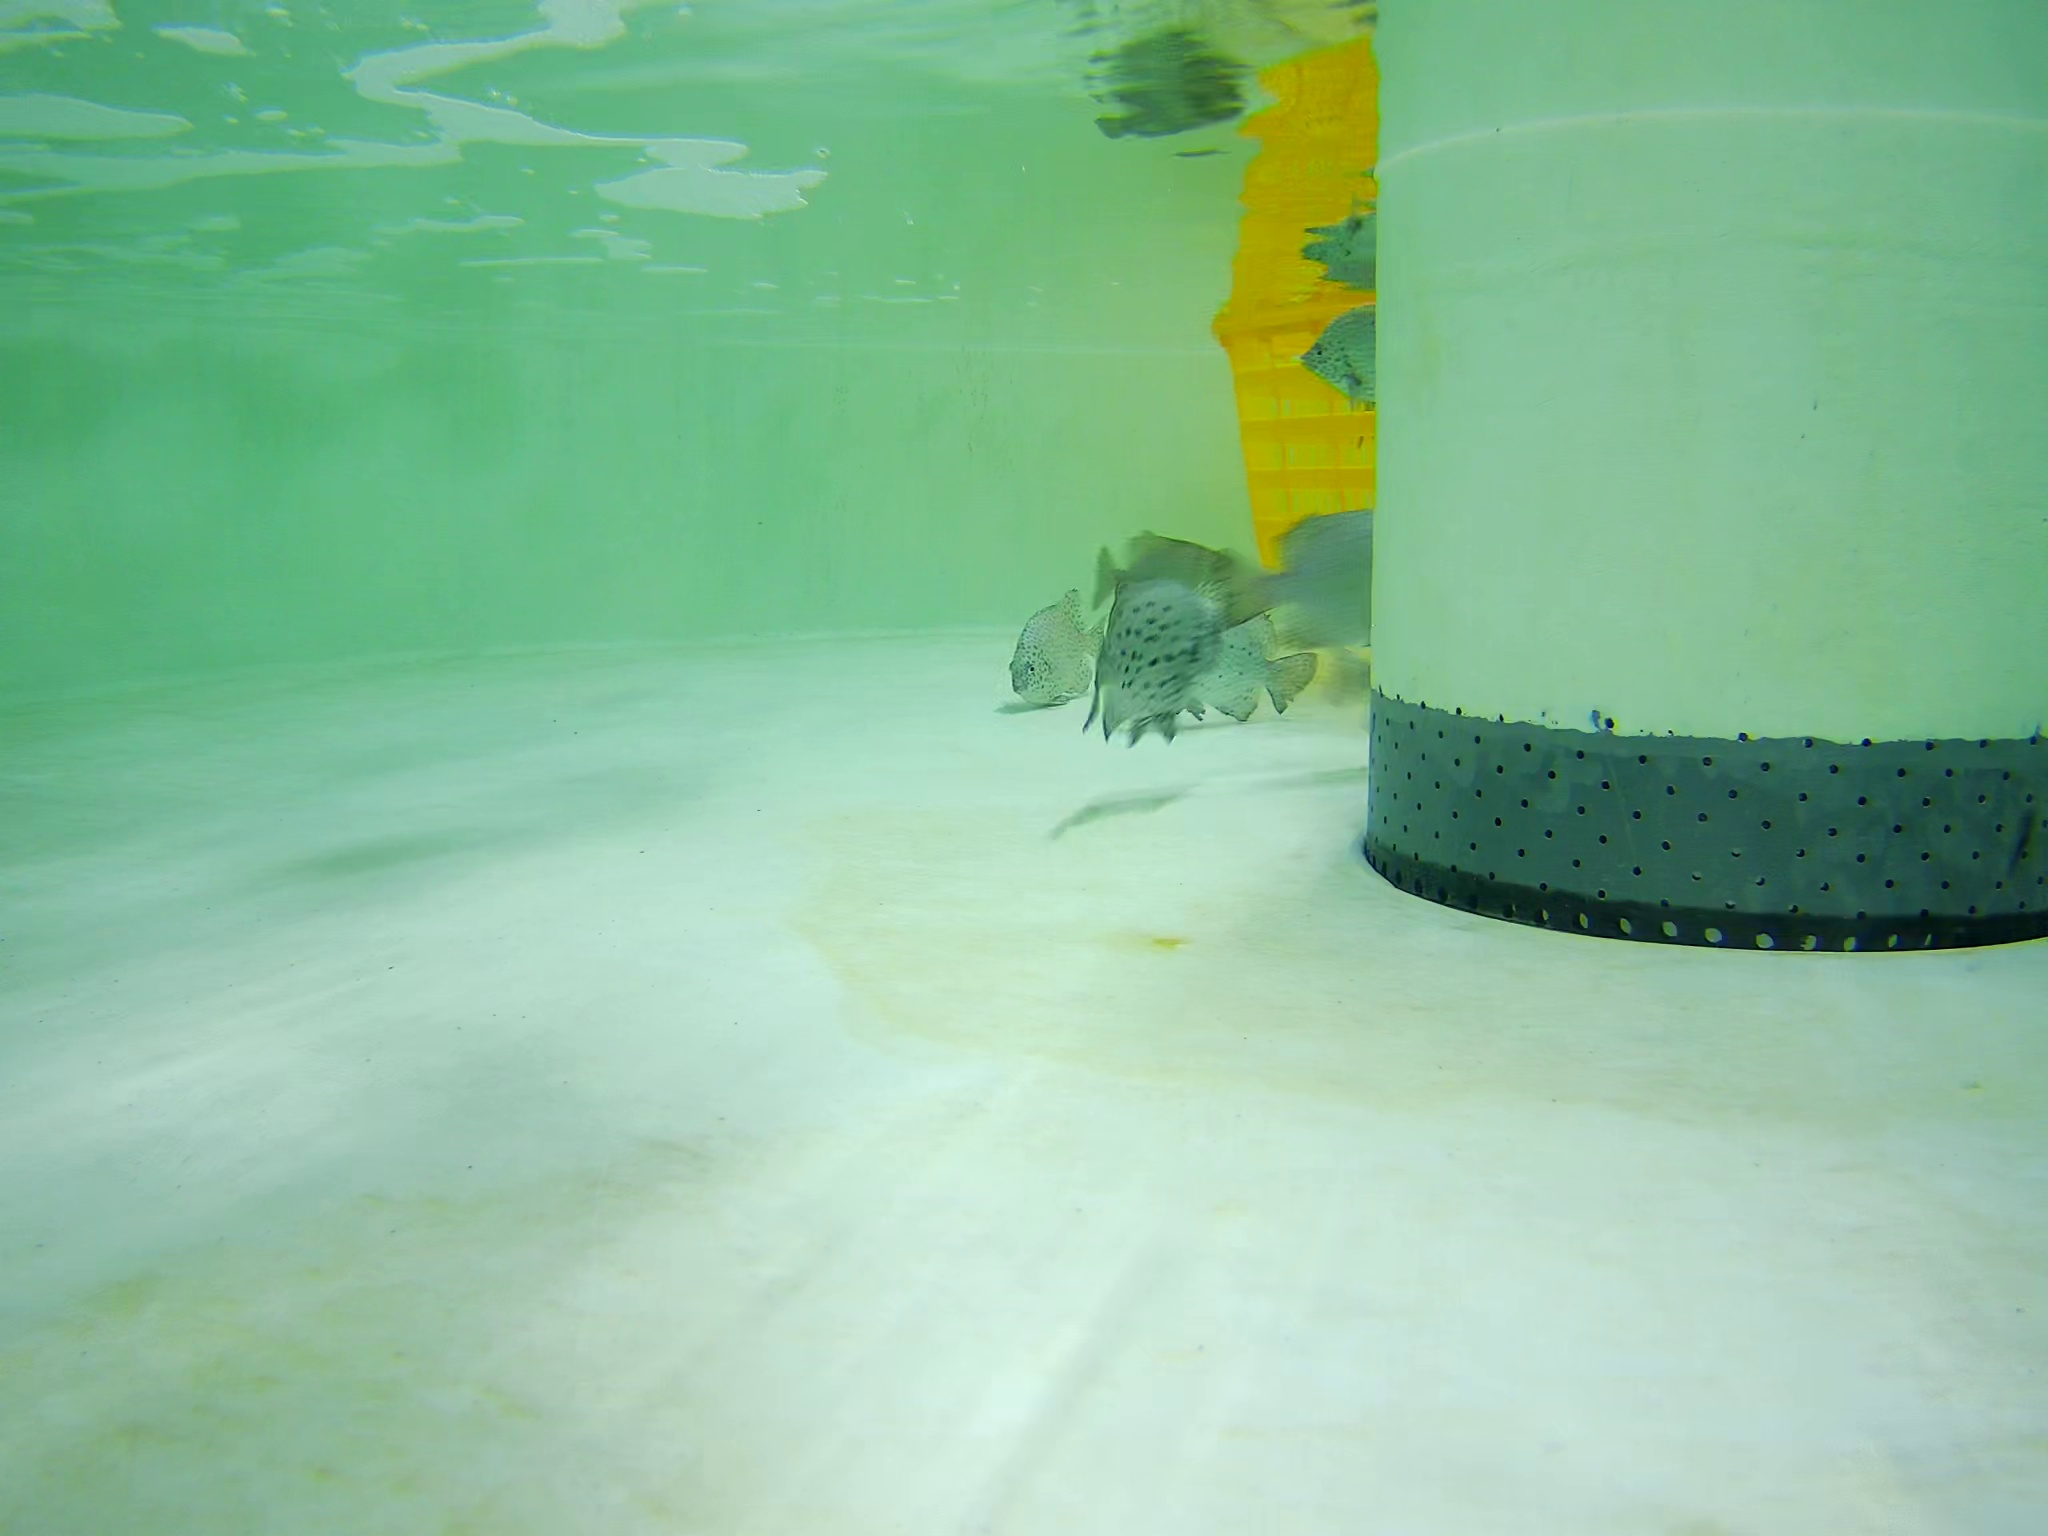fish: (1216, 510, 1380, 652), (1092, 586, 1219, 744), (1092, 531, 1242, 639), (1172, 616, 1319, 721), (995, 597, 1109, 708), (1298, 308, 1372, 402)
